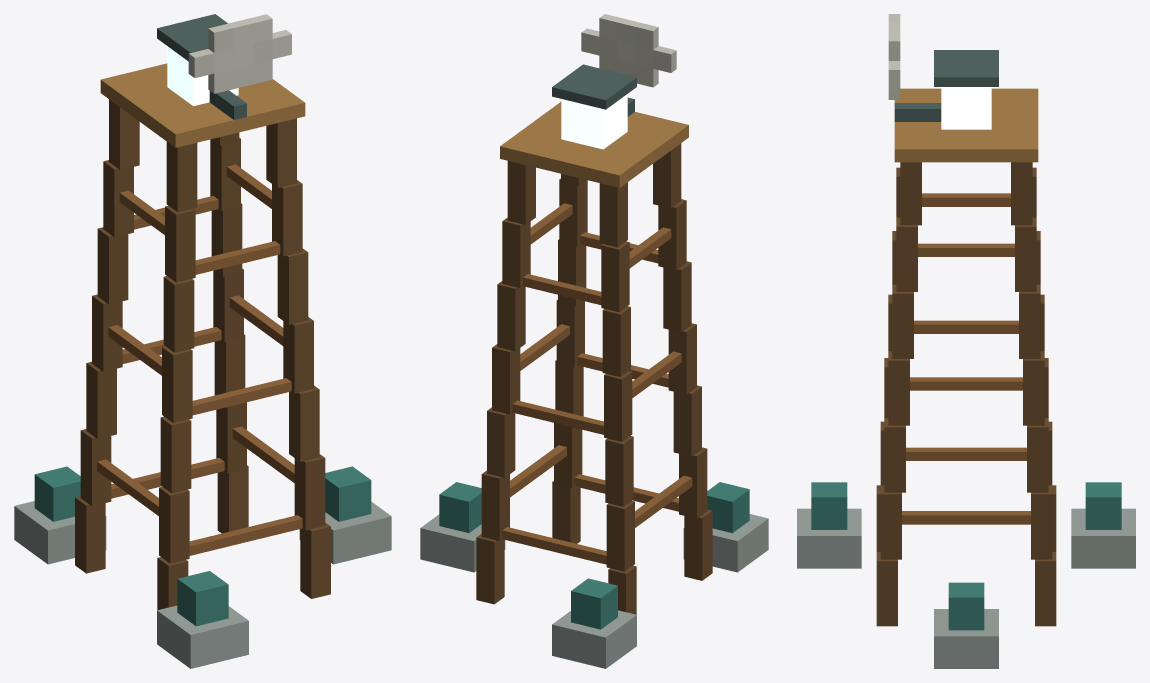
Rendered from signal_tower_purified.glb.
The picture shows the model from 3 angles, left to right: view 1: azimuth 30°, elevation 25°; view 2: azimuth 150°, elevation 25°; view 3: azimuth 270°, elevation 25°; orthographic projection. The views are drawn at different scales.
Parts seen in each view (by area): view 1: signal_tower_blocks; view 2: signal_tower_blocks; view 3: signal_tower_blocks.
Boxes of the visible parts, x1=… form: signal_tower_blocks: x1=14, y1=14, x2=391, y2=668; signal_tower_blocks: x1=420, y1=14, x2=768, y2=668; signal_tower_blocks: x1=797, y1=14, x2=1135, y2=668.
Size of the model in its own units: 4.2 by 8.6 by 4.71.
